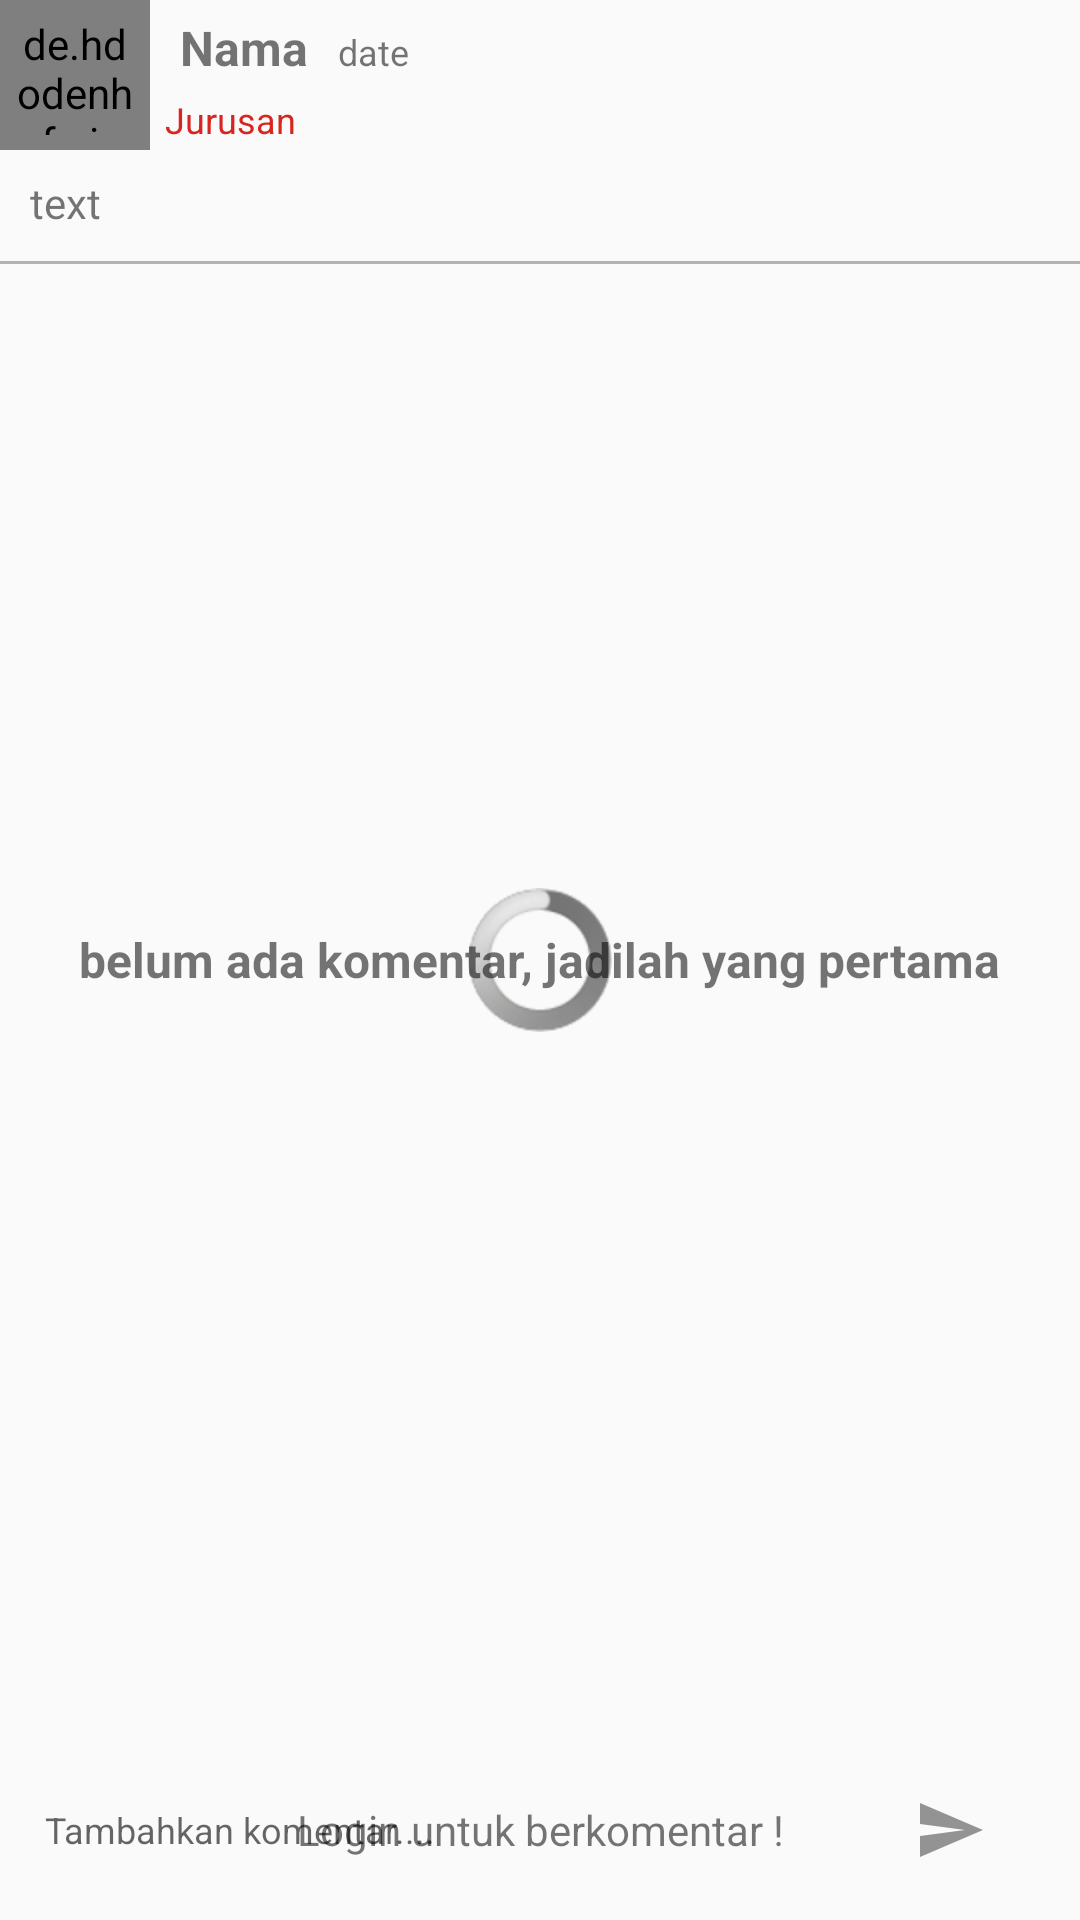

Screen size 1080w x 1920h. Icon name, then its box in pixels as (x1, y1, x2, y2):
send: (920, 1803, 982, 1857)
